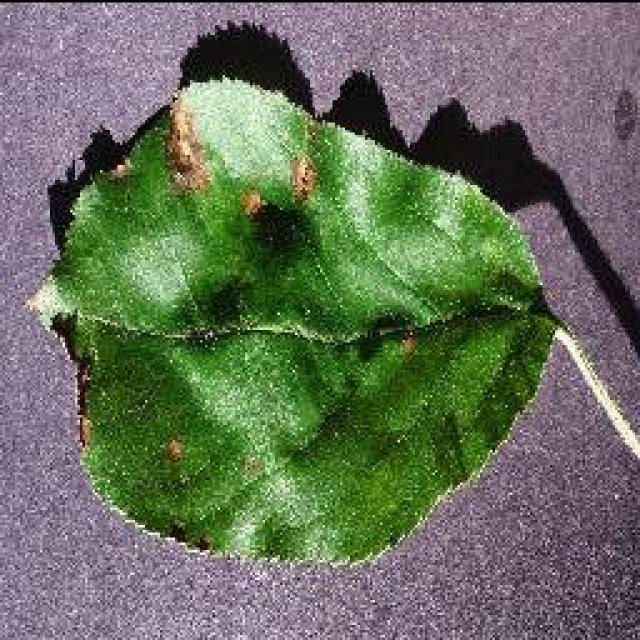Black_rot: (25, 60, 563, 568)
